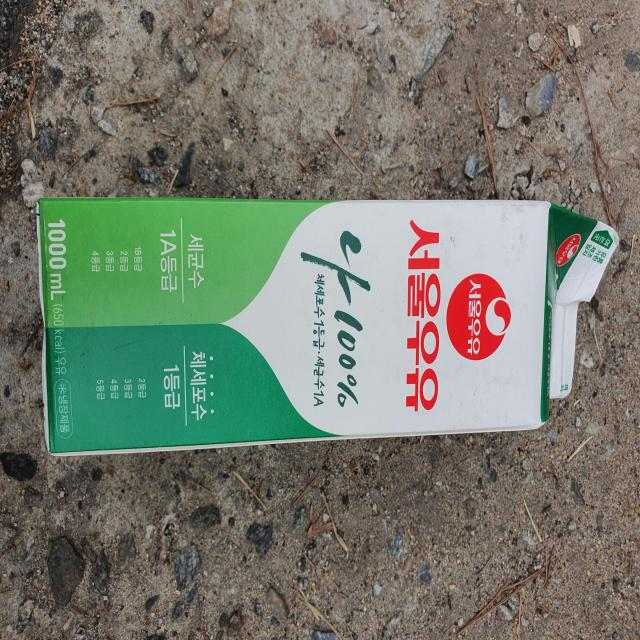paperpack: (37, 199, 620, 456)
